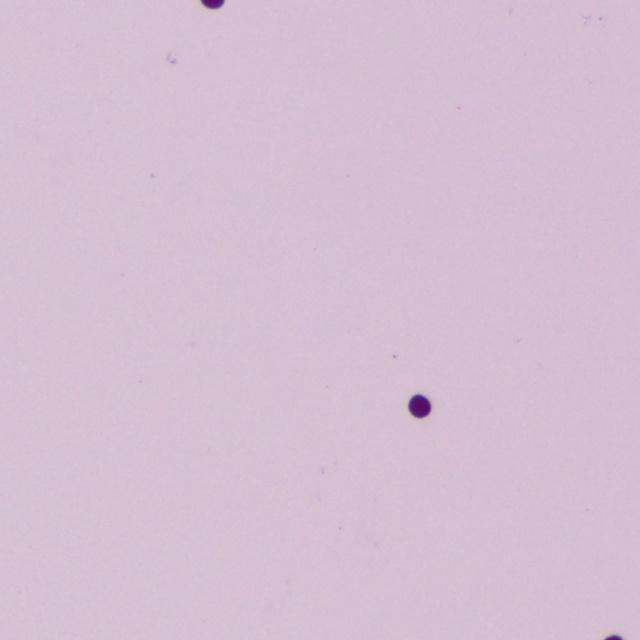viable: (408, 394, 430, 417)
